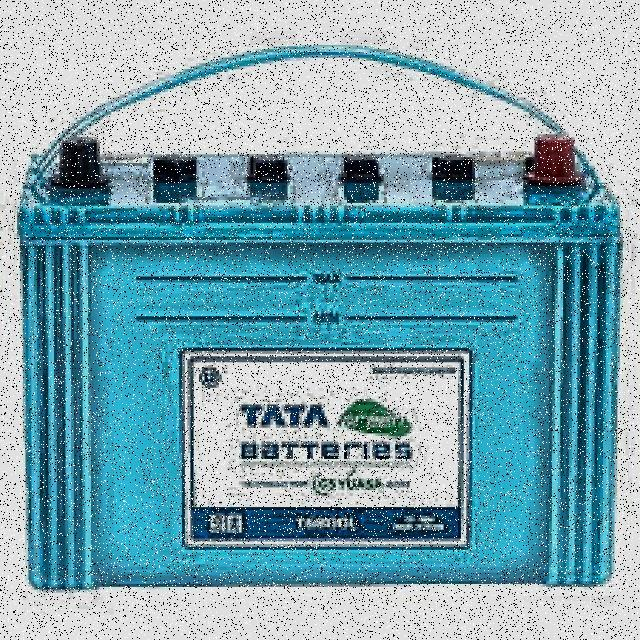B3: (24, 34, 640, 595)
